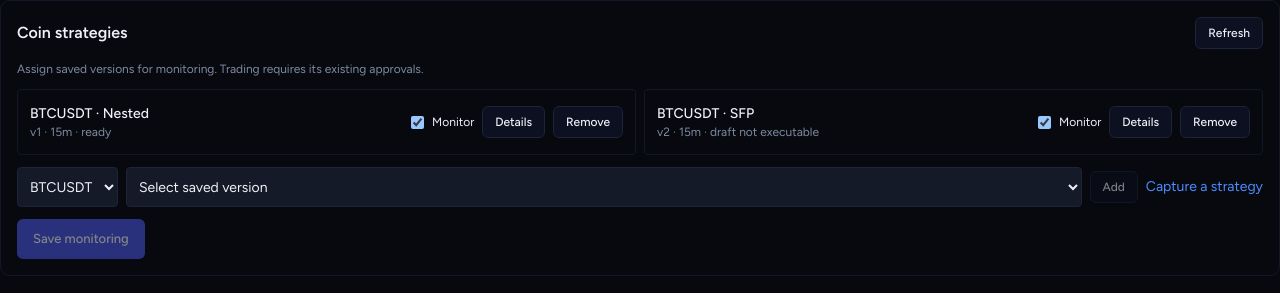
Scenario: definite first-attempt rejection preserves editable rows and releases recovery
Expected: the text "BTCUSDT · Nested" is shown, [30, 105, 149, 122]
Click the checkbox labelled "Monitor" in the row of "Nested": (418, 122) [411, 116, 424, 128]
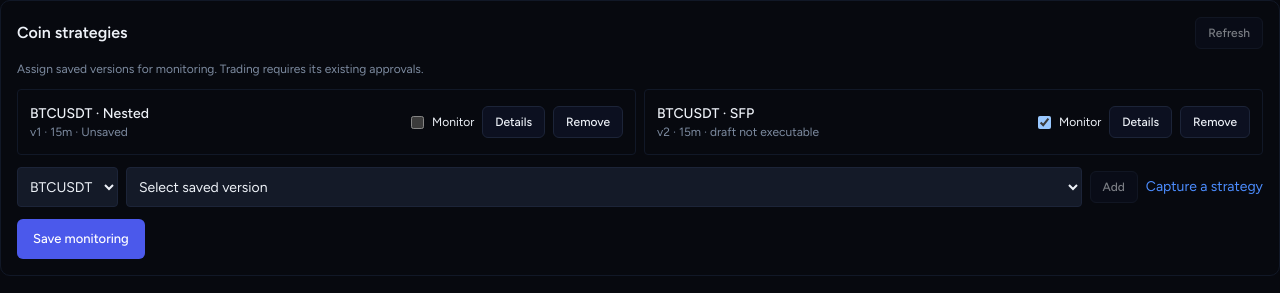
Click the button "Save monitoring": (81, 239) [17, 219, 145, 259]
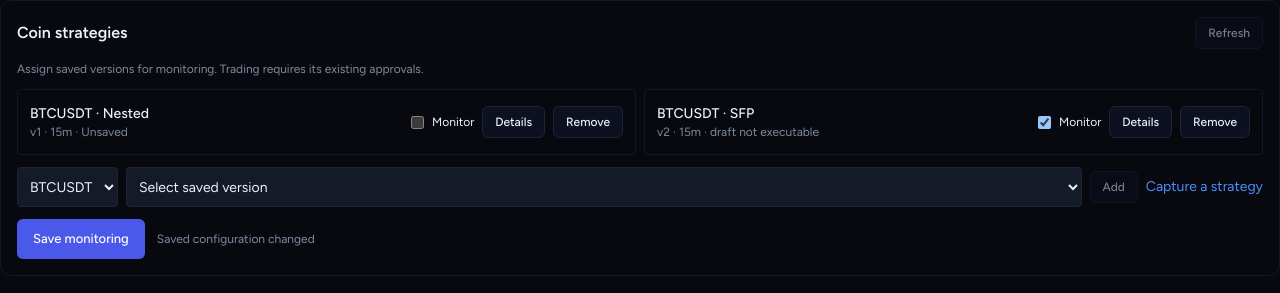
Expected: the checkbox named "Monitor BTCUSDT Nested" is not checked, [411, 116, 424, 128]
Expected: the button "Save monitoring" is enabled, [17, 219, 145, 259]
Expected: the text "Saved configuration changed" is shown, [157, 231, 315, 247]
